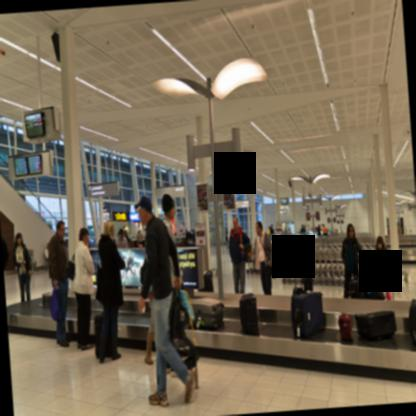backpack: (361, 268, 386, 300), (179, 289, 195, 326), (338, 316, 353, 340), (240, 233, 252, 262), (293, 284, 306, 295)
handbag: (168, 287, 191, 340), (260, 239, 276, 279), (49, 285, 60, 323), (25, 245, 37, 270), (64, 253, 75, 280), (96, 264, 103, 305)
suitcase: (291, 291, 325, 336), (354, 309, 397, 342), (189, 297, 225, 329), (239, 292, 259, 335), (348, 275, 365, 298), (409, 298, 416, 345), (95, 316, 103, 357), (301, 274, 314, 293), (204, 271, 213, 291)
